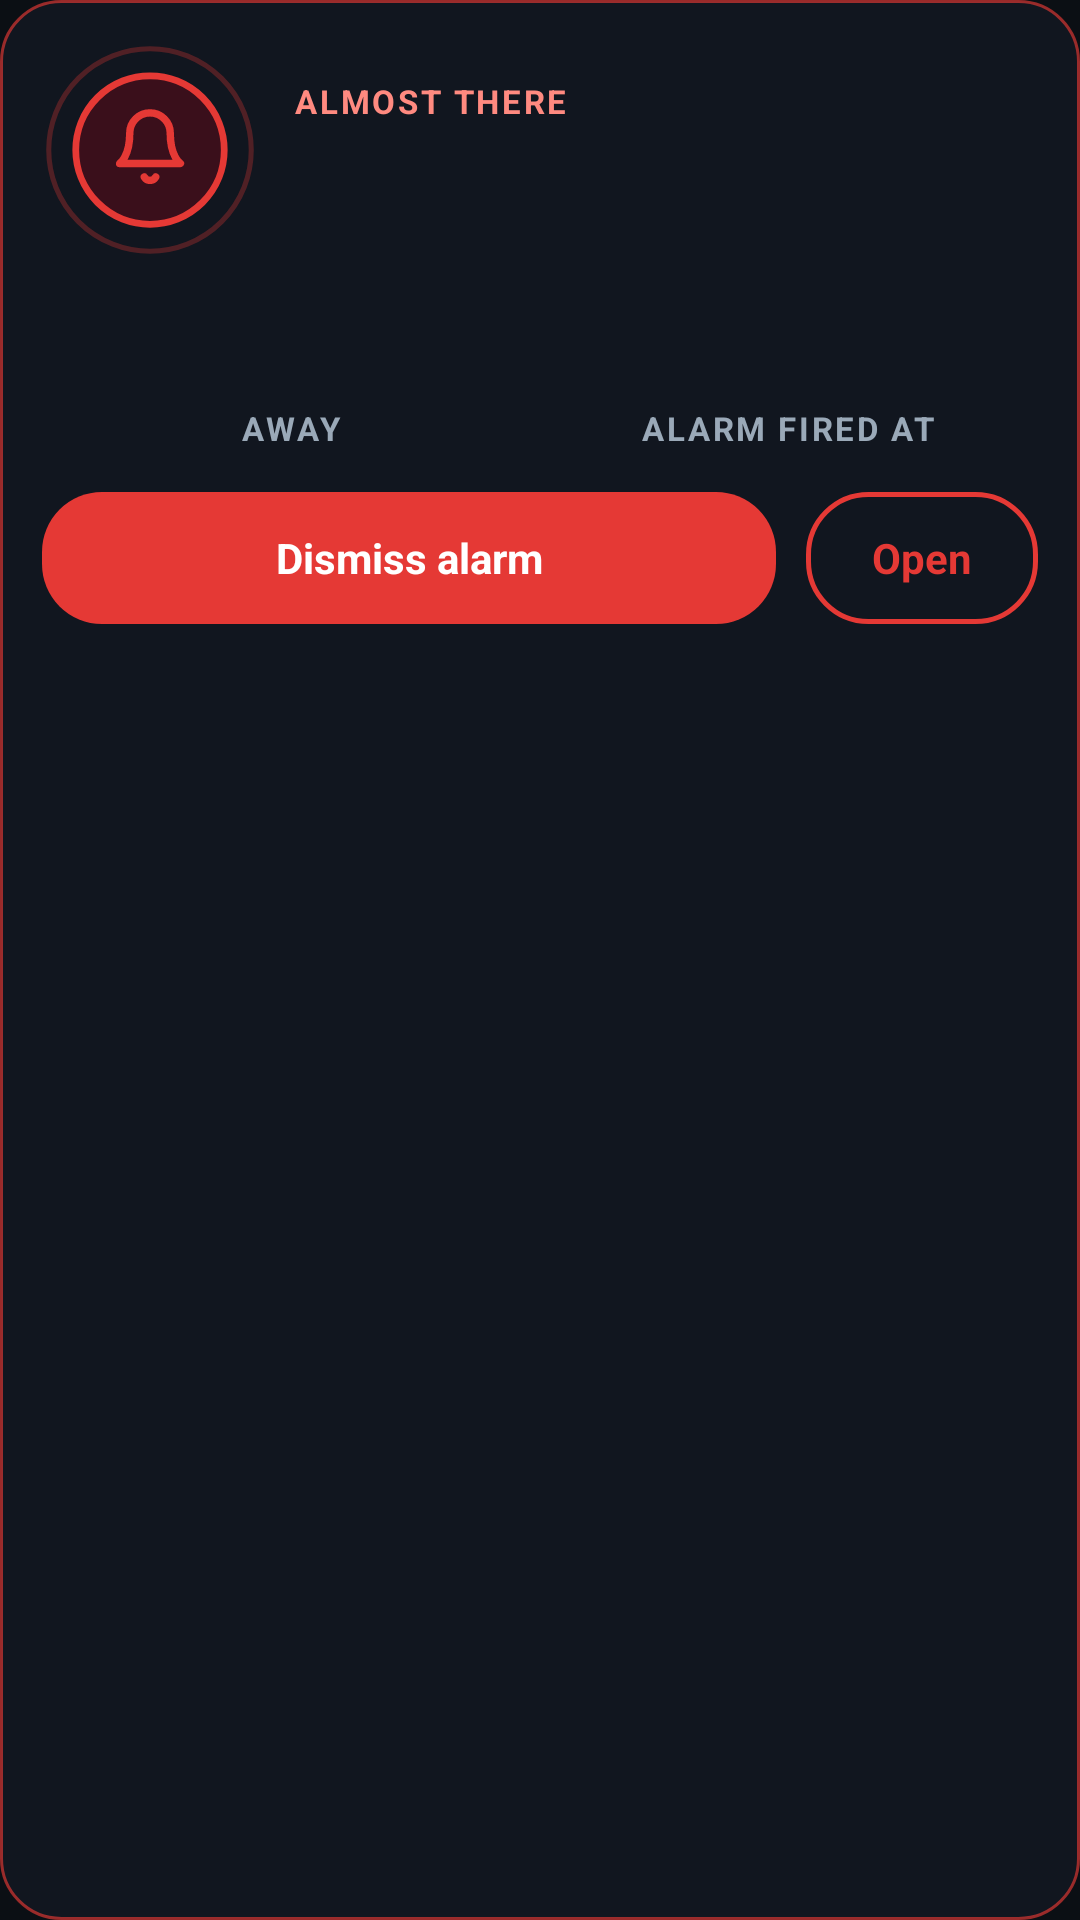

Point at icon controls on the screen. Image size 1080 × 1920, points as (x,y).
notif alarm art: (150,150)
